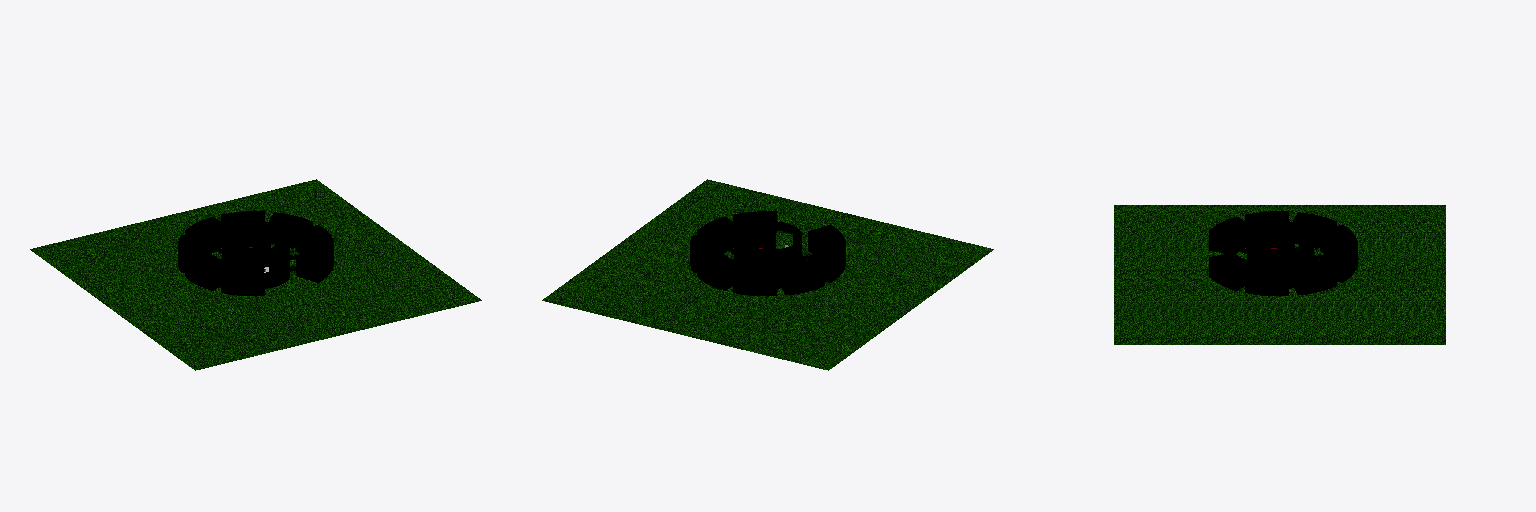
3 views of the same model, side by side, from view 1: azimuth 30°, elevation 25°; view 2: azimuth 150°, elevation 25°; view 3: azimuth 270°, elevation 25° (orthographic).
Visible parts, largest first — view 1: pPlane1, pCylinder73, pCylinder72 polySurface6, polySurface5 pCylinder72, pCylinder72 polySurface7, pCylinder72 polySurface3, pCylinder72 polySurface8, pCylinder72 polySurface4, pCylinder72 polySurface1; view 2: pPlane1, pCylinder73, pCylinder72 polySurface4, pCylinder72 polySurface3, pCylinder72 polySurface2, polySurface5 pCylinder72, pCylinder72 polySurface8, pCylinder72 polySurface6, pCylinder72 polySurface1; view 3: pPlane1, pCylinder73, pCylinder72 polySurface1, pCylinder72 polySurface8, pCylinder72 polySurface7, pCylinder72 polySurface6, pCylinder72 polySurface2, pCylinder72 polySurface3, pCylinder72 polySurface4.
Boxes of the visible parts, x1=… form: pPlane1: x1=30, y1=179, x2=481, y2=370; pCylinder73: x1=222, y1=221, x2=289, y2=288; pCylinder72 polySurface6: x1=221, y1=263, x2=264, y2=296; polySurface5 pCylinder72: x1=185, y1=253, x2=227, y2=290; pCylinder72 polySurface7: x1=296, y1=245, x2=333, y2=282; pCylinder72 polySurface3: x1=185, y1=217, x2=227, y2=253; pCylinder72 polySurface8: x1=296, y1=224, x2=333, y2=253; pCylinder72 polySurface4: x1=178, y1=235, x2=207, y2=272; pCylinder72 polySurface1: x1=269, y1=212, x2=312, y2=248; pPlane1: x1=542, y1=179, x2=993, y2=370; pCylinder73: x1=734, y1=221, x2=801, y2=288; pCylinder72 polySurface4: x1=780, y1=259, x2=824, y2=295; pCylinder72 polySurface3: x1=733, y1=263, x2=776, y2=296; pCylinder72 polySurface2: x1=697, y1=253, x2=739, y2=290; polySurface5 pCylinder72: x1=808, y1=245, x2=845, y2=282; pCylinder72 polySurface8: x1=697, y1=217, x2=739, y2=253; pCylinder72 polySurface6: x1=808, y1=224, x2=845, y2=253; pCylinder72 polySurface1: x1=690, y1=235, x2=719, y2=272; pPlane1: x1=1114, y1=205, x2=1445, y2=344; pCylinder73: x1=1246, y1=221, x2=1313, y2=288; pCylinder72 polySurface1: x1=1292, y1=259, x2=1336, y2=295; pCylinder72 polySurface8: x1=1245, y1=263, x2=1288, y2=296; pCylinder72 polySurface7: x1=1209, y1=253, x2=1251, y2=290; pCylinder72 polySurface6: x1=1209, y1=217, x2=1251, y2=253; pCylinder72 polySurface2: x1=1320, y1=245, x2=1357, y2=282; pCylinder72 polySurface3: x1=1320, y1=224, x2=1357, y2=253; pCylinder72 polySurface4: x1=1293, y1=212, x2=1336, y2=248.
Size of the model in its own units: 106 by 14.6 by 106.
15 materials, 5 textured.